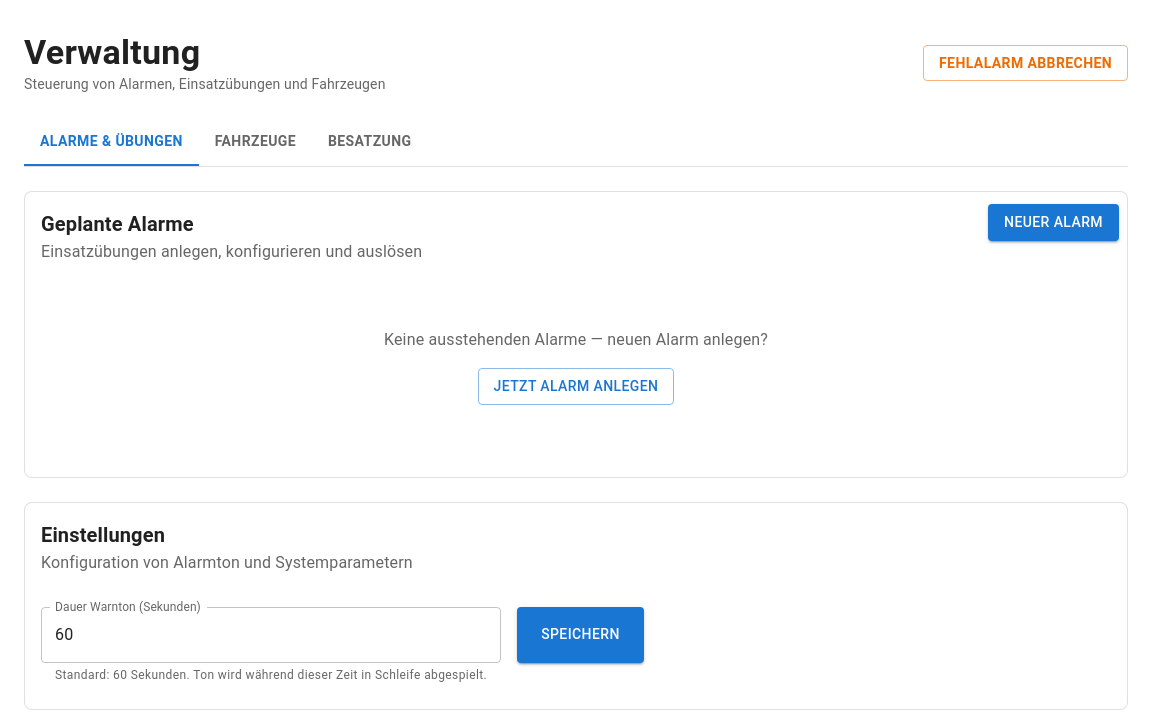
Scenario: AdminLayout › shows a cancel button and cancels an active false alarm (R15)
The image size is (1152, 720).
Expected: the heading "Verwaltung" is shown, top-left (24, 32), bottom-right (200, 72)
Click the button "Fehlalarm abbrechen": [1026, 63] box top-left (923, 45), bottom-right (1128, 81)
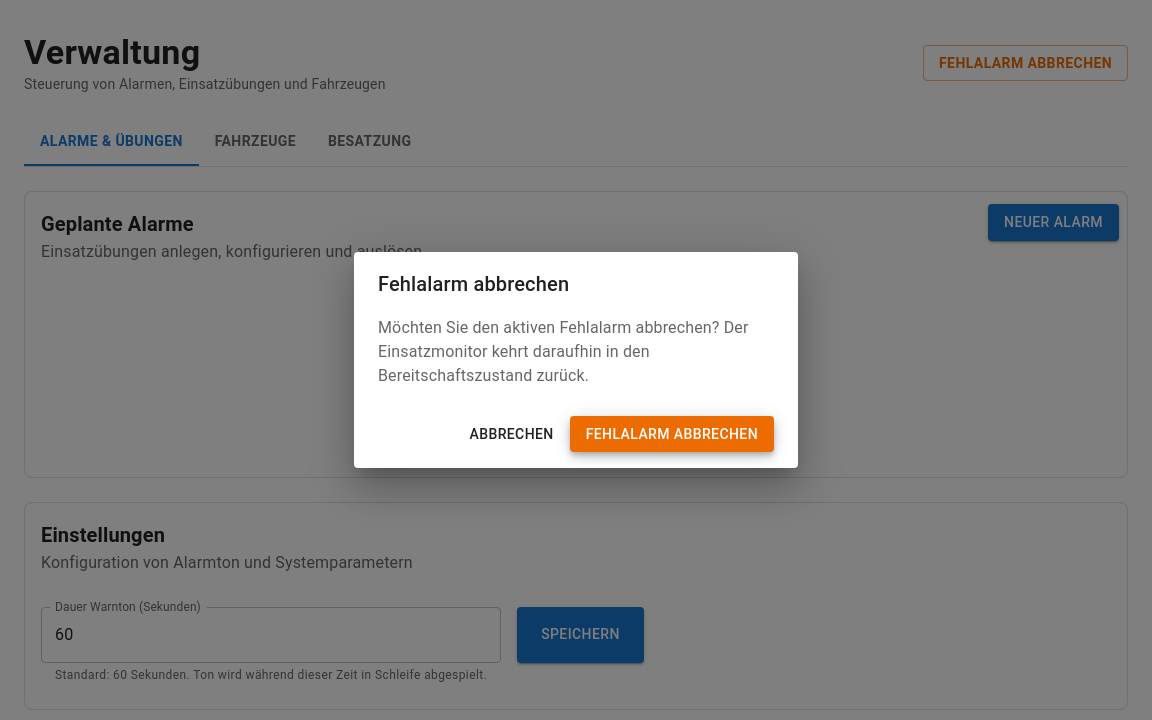
Result: the text "Möchten Sie den aktiven Fehlalarm abbrechen?" is shown at top-left (378, 318), bottom-right (748, 385)
// Confirm the cancel dialog.
Click the button "Fehlalarm abbrechen": [672, 434] box top-left (570, 416), bottom-right (774, 452)
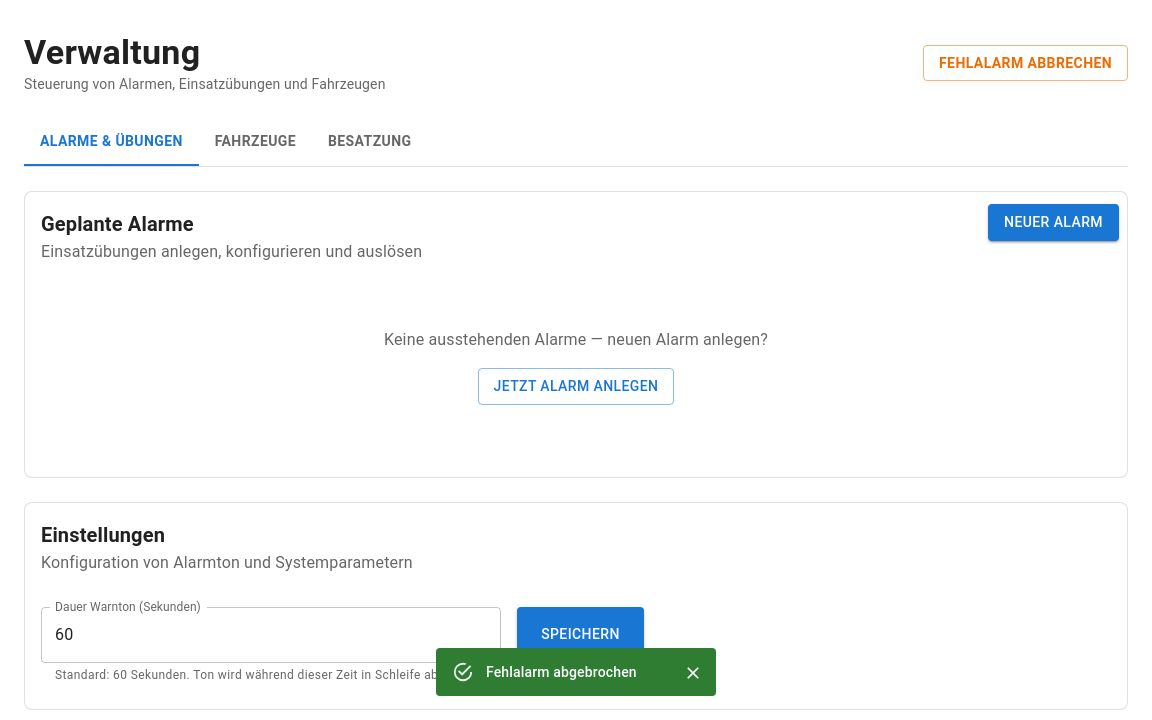
Result: the text "Fehlalarm abgebrochen" is shown at top-left (486, 664), bottom-right (637, 680)
